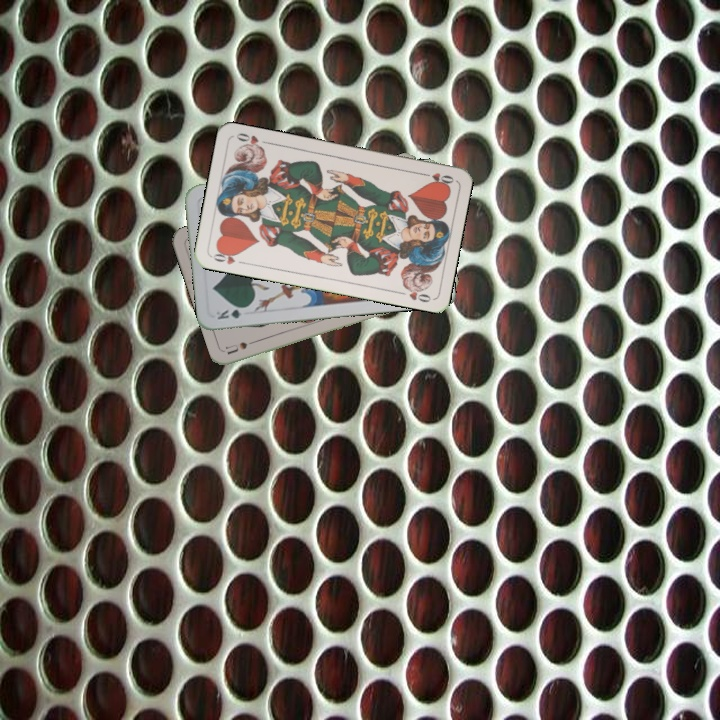GK: (212, 303, 251, 322)
HO: (208, 246, 248, 267), (416, 168, 456, 187)
SU: (223, 335, 263, 357)
